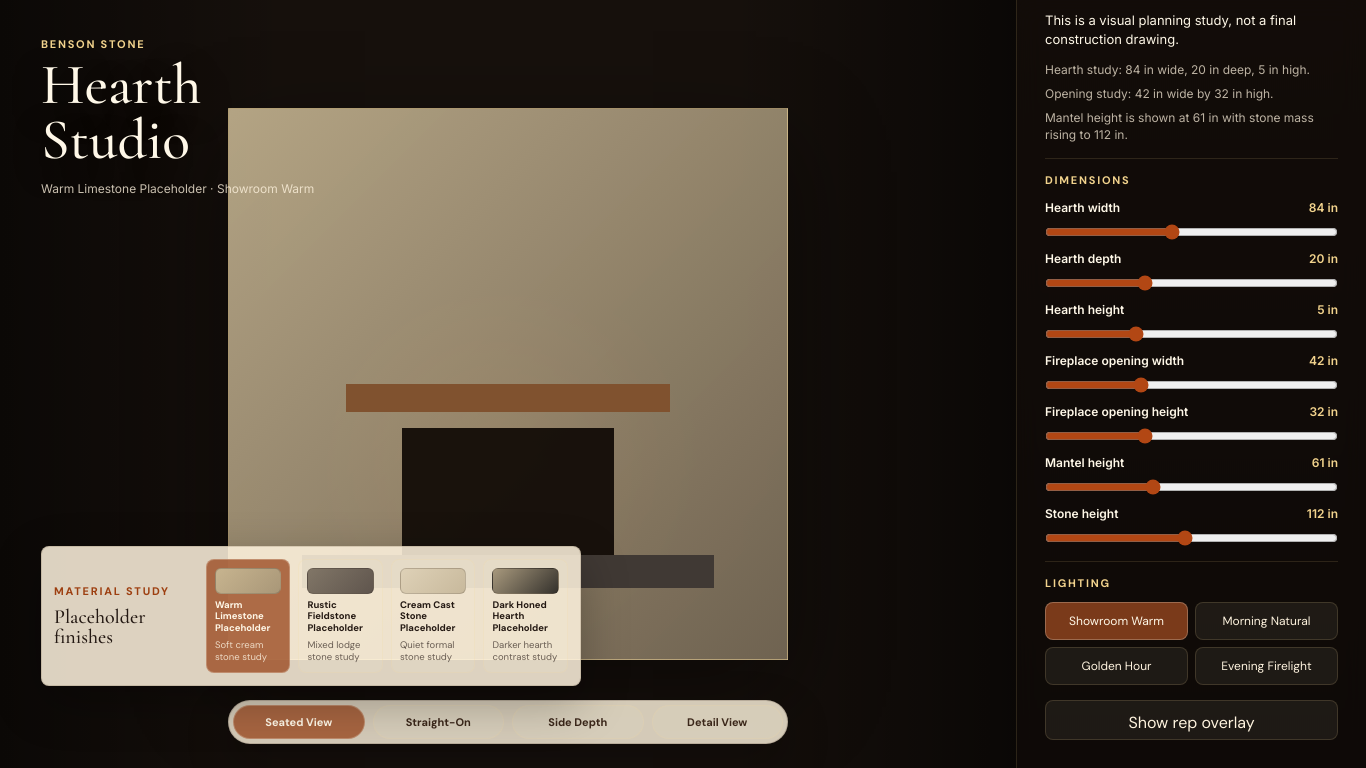
Test case: V9 Hearth Studio proof screen › keeps the rep overlay off until explicitly enabled
(page scrolled)
Click the button "Show rep overlay": (1192, 720) [1045, 700, 1338, 740]
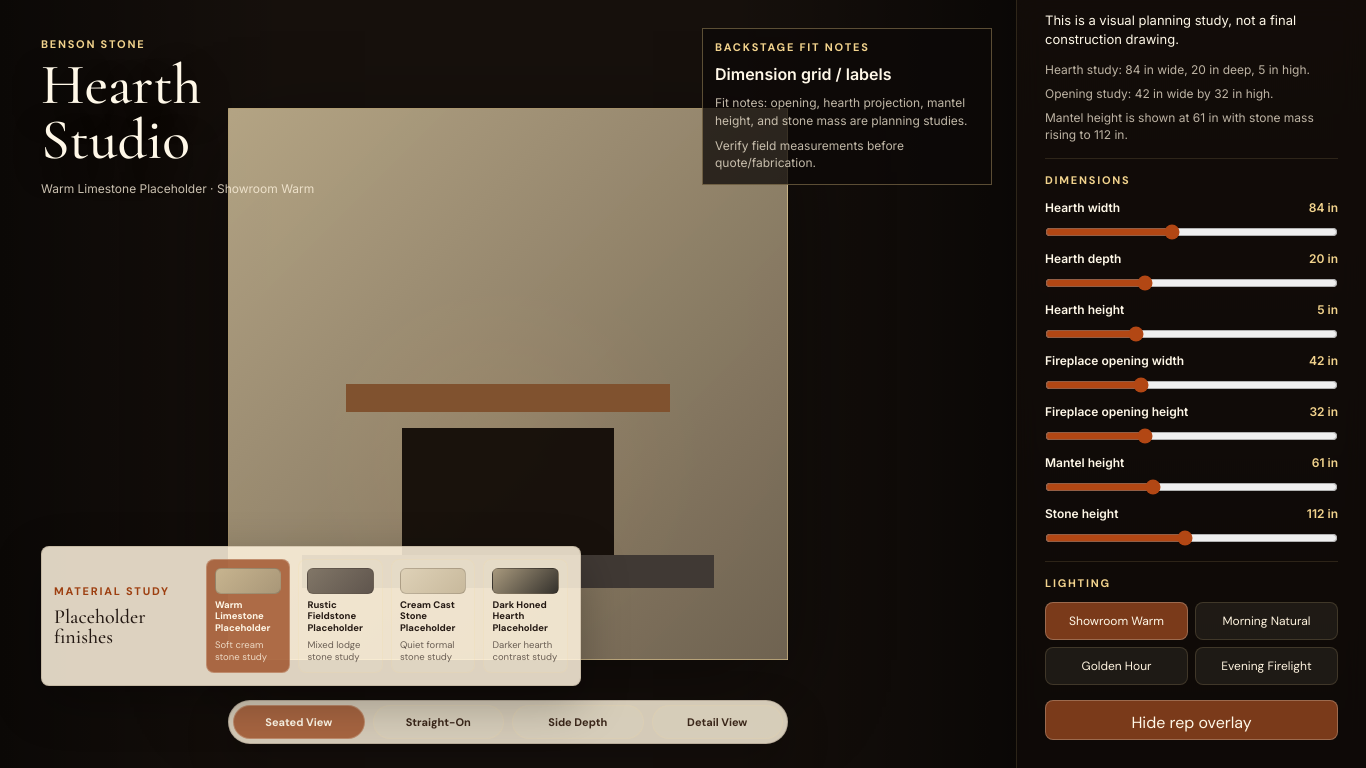
Expected: the element named "V9 rep fit overlay" is shown, [702, 28, 992, 185]
Expected: the text "Dimension grid / labels" is shown, [715, 64, 892, 84]
Expected: the text "Verify field measurements before quote/fabrication." is shown, [715, 138, 904, 170]
